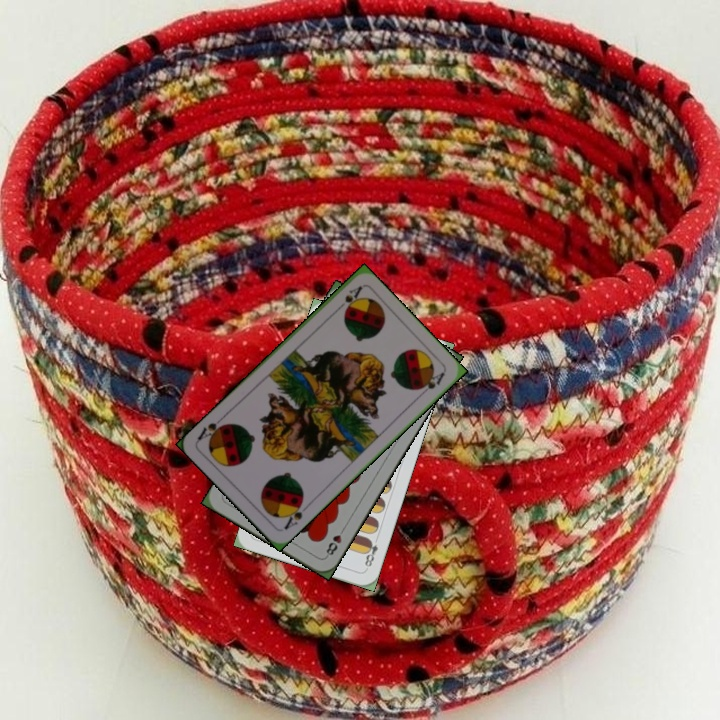E8: (360, 533, 381, 572)
H8: (322, 523, 348, 560)
SA: (280, 496, 312, 533), (331, 282, 364, 314)
